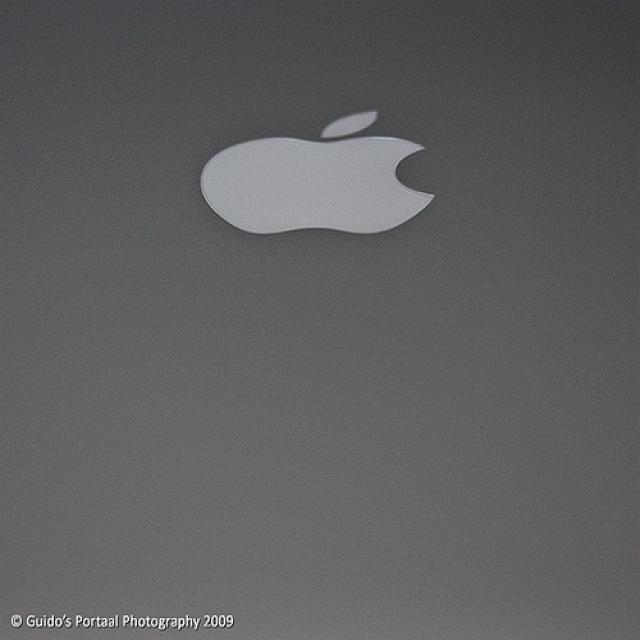apple: (188, 93, 446, 248)
